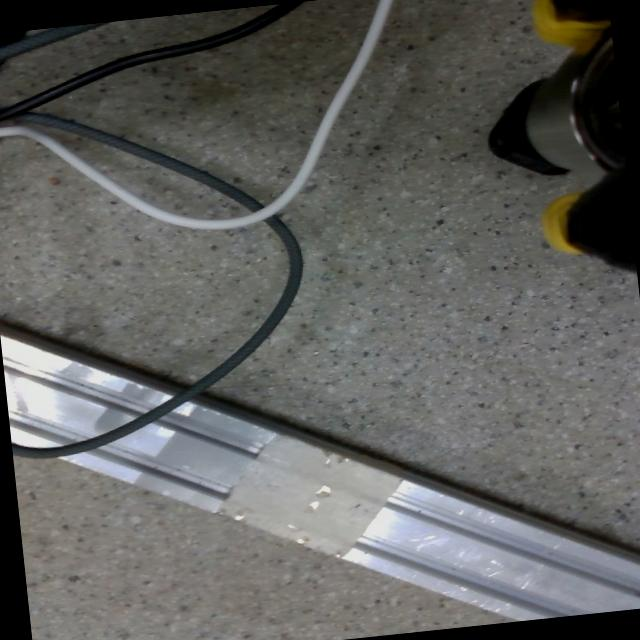cell: (479, 78, 566, 182)
